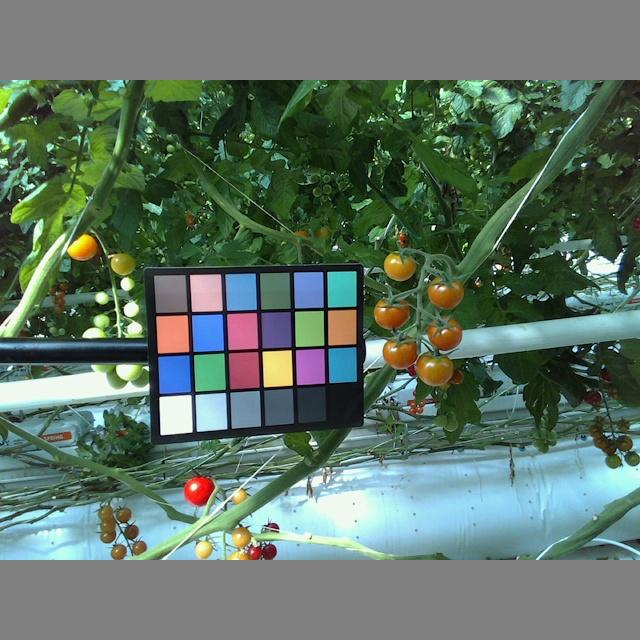pink: (383, 332, 422, 374), (427, 273, 465, 309), (370, 296, 410, 330), (415, 354, 454, 385), (428, 316, 462, 351), (383, 250, 418, 283), (231, 527, 253, 549), (194, 538, 213, 557), (231, 488, 247, 503)
red: (183, 475, 218, 504)
